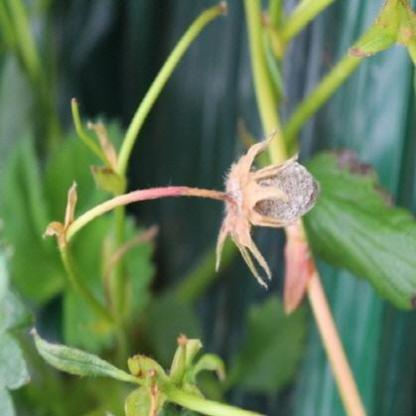Strawberry_Gray_Mold: (206, 131, 320, 290)
